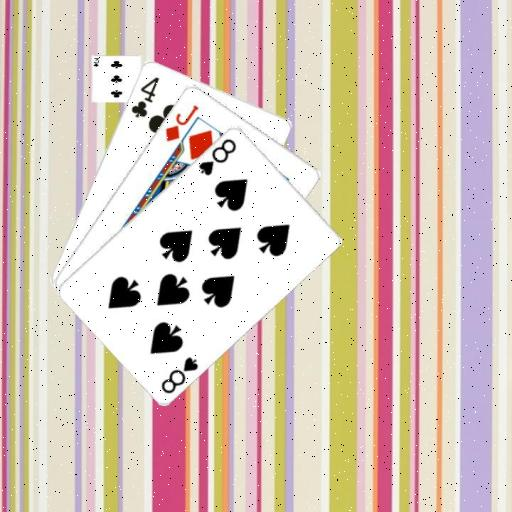4C: (129, 73, 161, 119)
8S: (195, 135, 237, 177), (158, 353, 200, 395)
JD: (162, 101, 201, 143)
